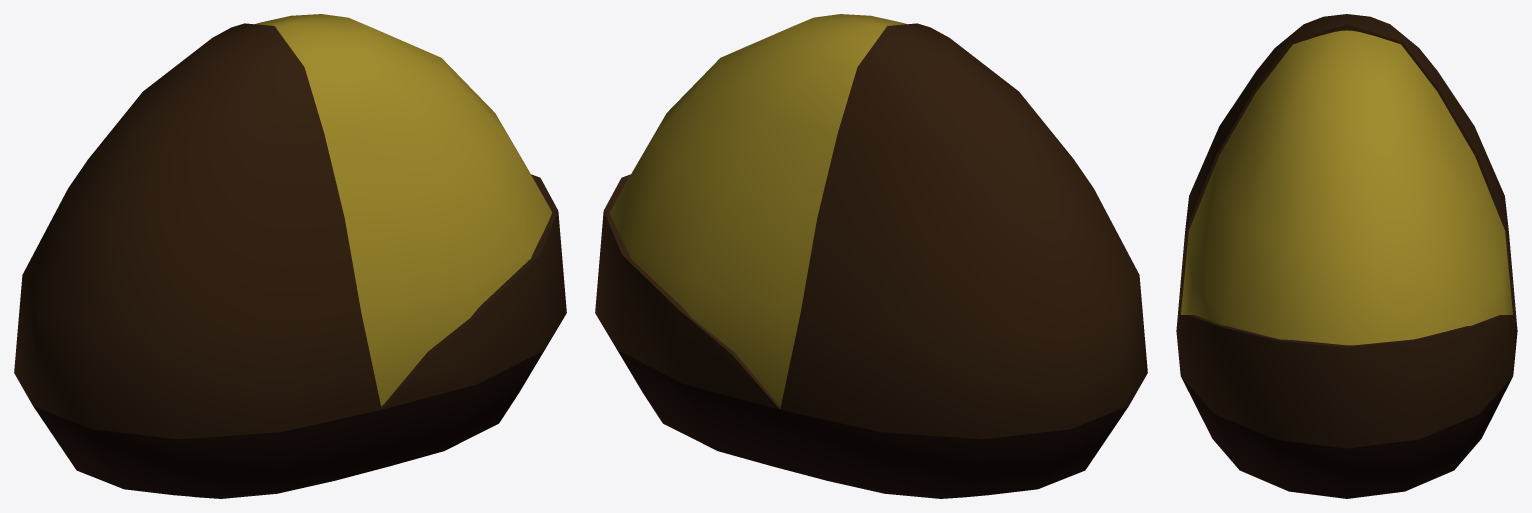
The model's file is ChestNut_Kkebi.fbx.
The picture shows the model from 3 angles, left to right: view 1: azimuth 30°, elevation 25°; view 2: azimuth 150°, elevation 25°; view 3: azimuth 270°, elevation 25°; orthographic projection. The views are drawn at different scales.
Visible parts, largest first — view 1: Chestnut_Crack; view 2: Chestnut_Crack; view 3: Chestnut_Crack.
Boxes of the visible parts, x1,y1,x2,y2 form: Chestnut_Crack: (14,14,566,498); Chestnut_Crack: (595,14,1147,498); Chestnut_Crack: (1176,14,1517,498).
Bounding box in the file's own units: 48.63 × 39.49 × 29.85.
